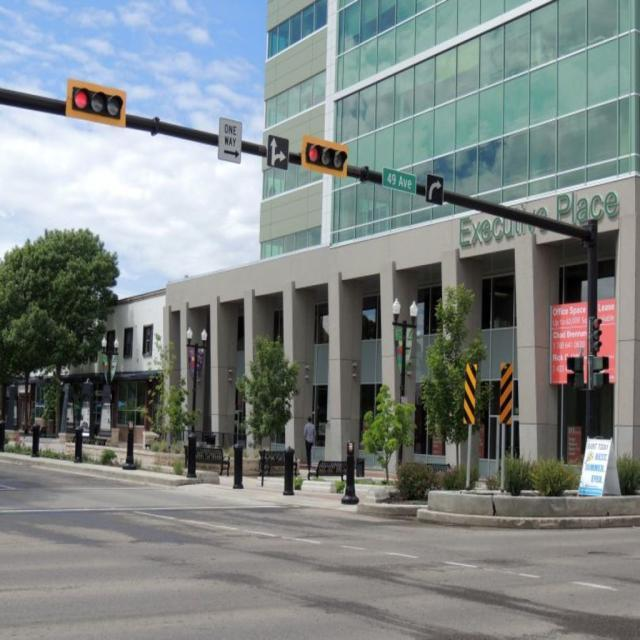off traffic light: (589, 353, 610, 391), (564, 356, 583, 390)
road_sign: (267, 135, 291, 170)
traffic light: (62, 81, 131, 128), (293, 136, 355, 181), (588, 312, 603, 353)
